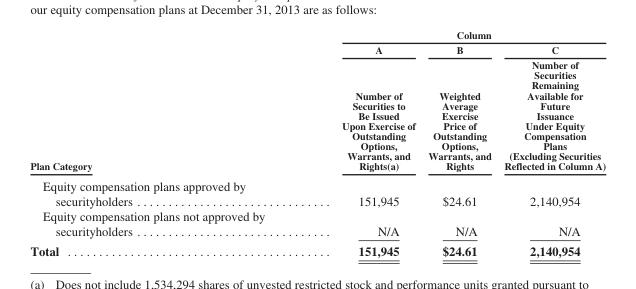table: (29, 28, 605, 257)
table column: (29, 28, 302, 257), (302, 28, 421, 257), (497, 28, 605, 257), (421, 28, 497, 257)
table column header: (29, 28, 605, 174)
table row: (29, 41, 605, 174), (29, 174, 605, 207), (29, 207, 605, 240), (29, 240, 605, 257), (29, 28, 605, 41)
table spanning cell: (29, 28, 302, 174), (302, 28, 605, 41)
